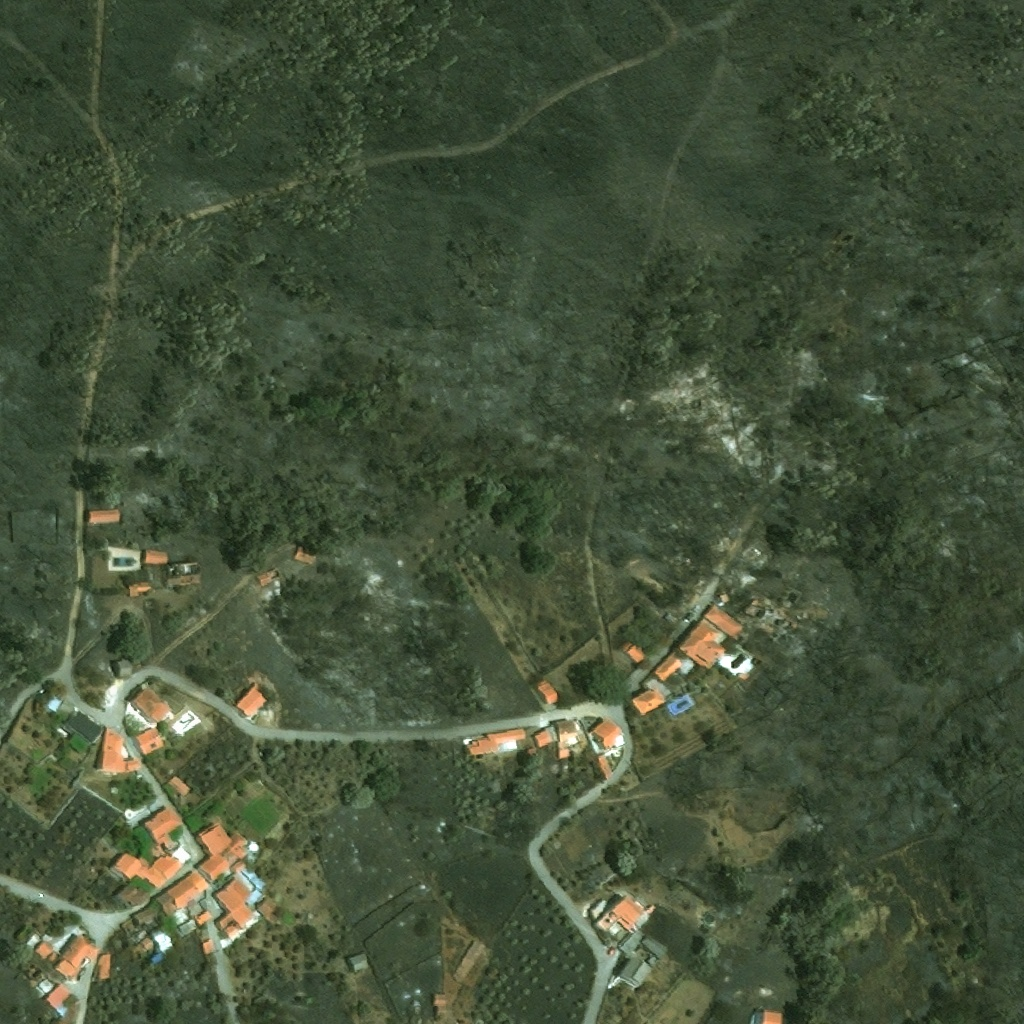0 no-damage: (110, 846, 189, 889), (197, 819, 250, 881), (214, 878, 256, 941), (679, 620, 727, 670), (156, 872, 207, 915), (99, 727, 141, 772), (54, 934, 97, 977), (143, 808, 183, 849), (610, 892, 649, 934), (132, 685, 173, 724), (465, 728, 525, 754), (451, 940, 485, 985), (704, 603, 747, 638), (37, 978, 68, 1016), (235, 683, 268, 717), (66, 711, 103, 741), (591, 717, 624, 748), (554, 720, 581, 757), (620, 955, 651, 987), (134, 726, 167, 756), (631, 686, 664, 715), (117, 883, 151, 908), (653, 653, 682, 681), (46, 693, 78, 716), (639, 934, 667, 960), (624, 640, 650, 664), (149, 927, 173, 951), (256, 895, 279, 920), (167, 774, 192, 797), (619, 931, 643, 954), (87, 507, 119, 524), (131, 905, 157, 925), (132, 937, 155, 959), (537, 682, 560, 704), (112, 657, 136, 677), (33, 940, 55, 961), (346, 952, 368, 973), (534, 726, 556, 747), (292, 545, 315, 565), (57, 1003, 79, 1023), (128, 580, 151, 598), (595, 753, 612, 777), (753, 1011, 782, 1023), (194, 910, 213, 927), (144, 550, 166, 563), (146, 953, 165, 968), (433, 996, 448, 1015), (97, 954, 109, 977), (201, 938, 215, 956), (523, 746, 538, 759), (232, 860, 246, 873)
2 major-damage: (255, 567, 283, 589)
3 destroyed: (164, 561, 201, 585), (761, 604, 793, 631), (748, 595, 768, 610)
